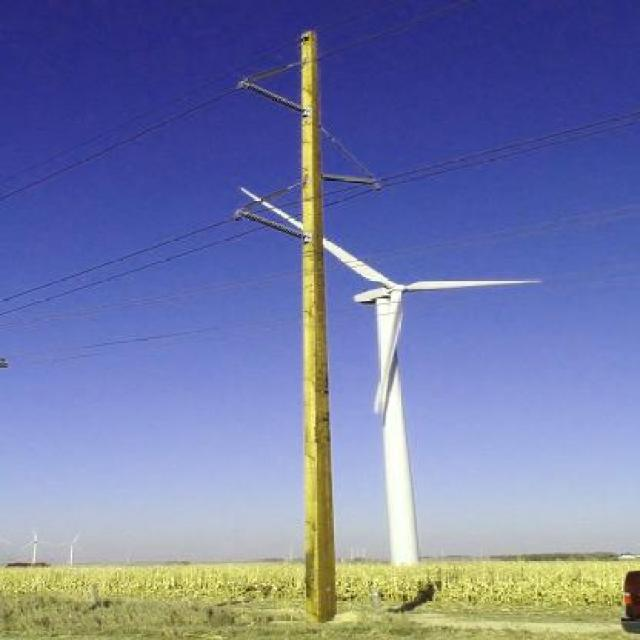pole: (219, 28, 366, 604)
